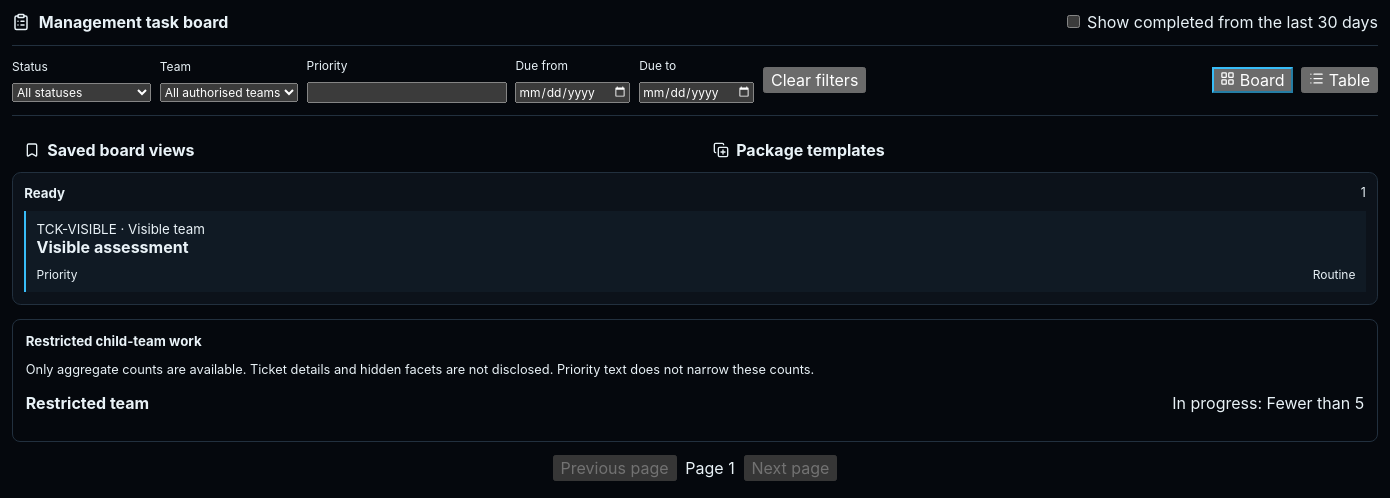
shows descendant aggregates without leaking child tickets and offers a table
The width and height of the screenshot is (1390, 498).
Expected: the heading "Management task board" is shown, [39,12,228,32]
Expected: the text "In progress: Fewer than 5" is shown, [1172,392,1364,412]
Click the button "Table" at [1340, 80], box [1301,67,1378,93]
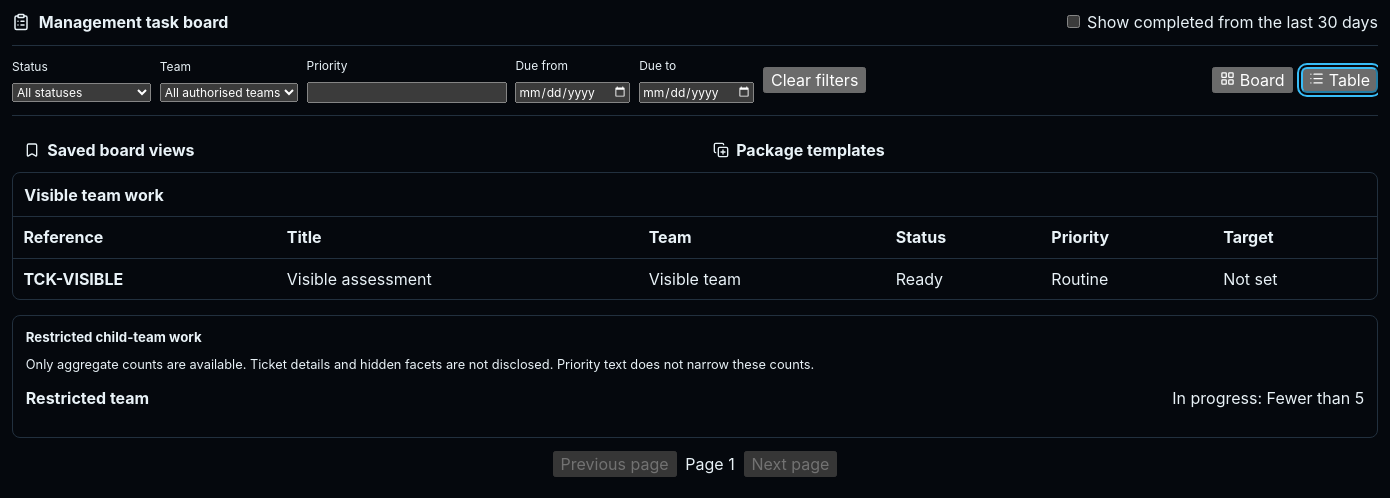
Result: the table "Visible team work" is shown at [13,173,1377,299]
